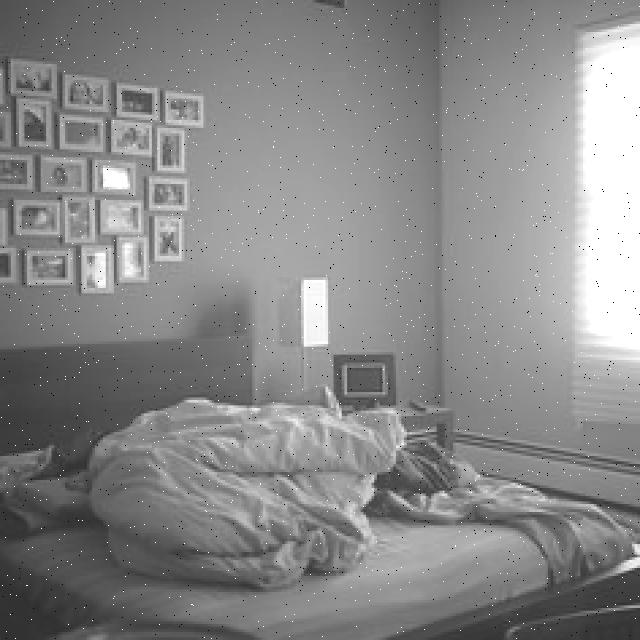bed: (1, 343, 622, 640)
